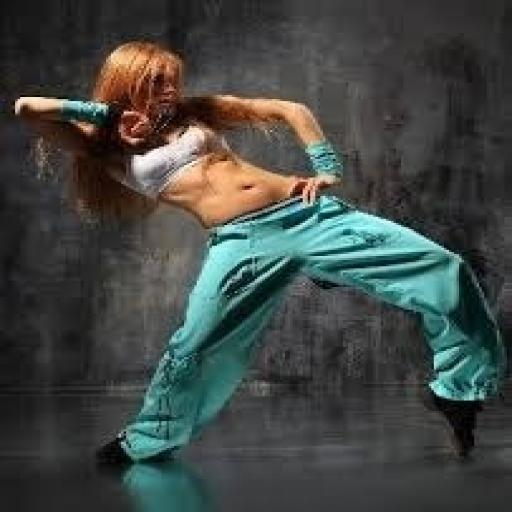dancing: (10, 37, 510, 471)
